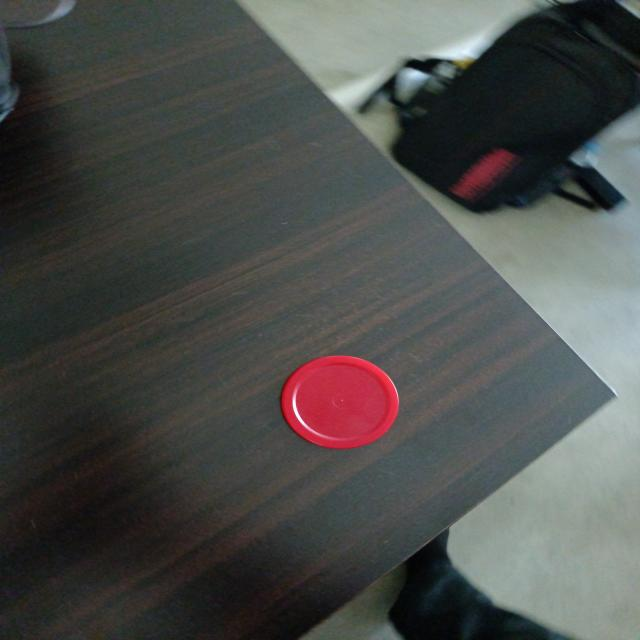chip: (280, 354, 402, 451)
